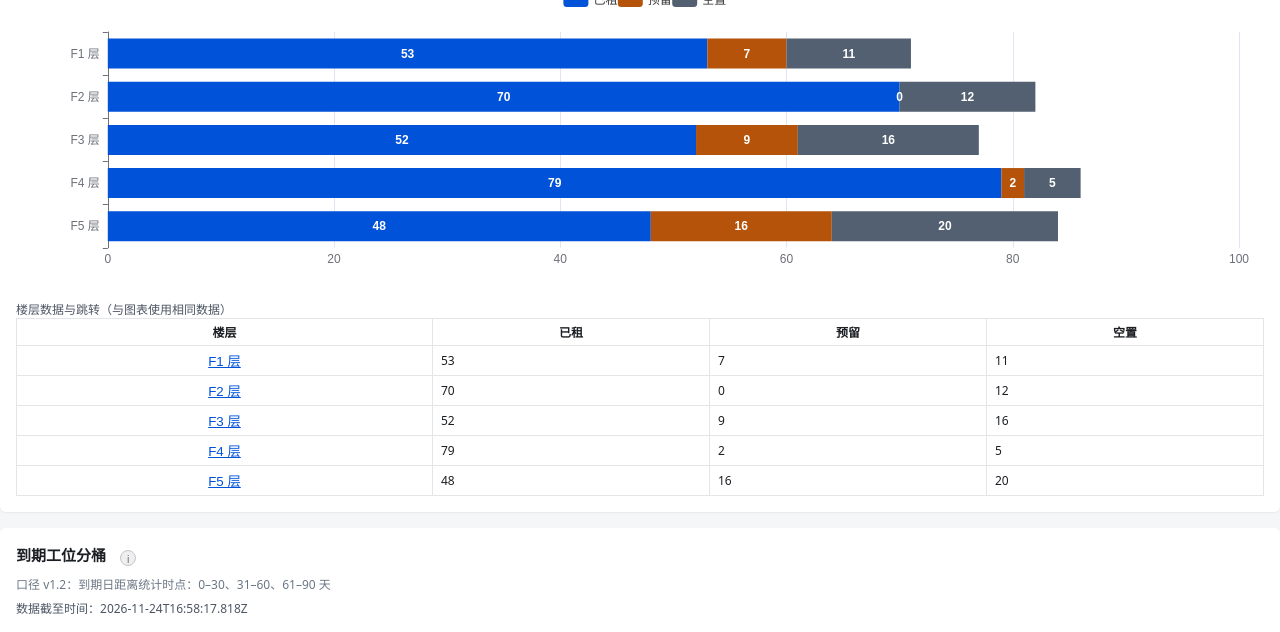
Scenario: occupancy › floor action navigates to stub with floorId
(page scrolled)
Click the button "F1 层": (224, 360) 202,350 -> 247,371
(page scrolled)
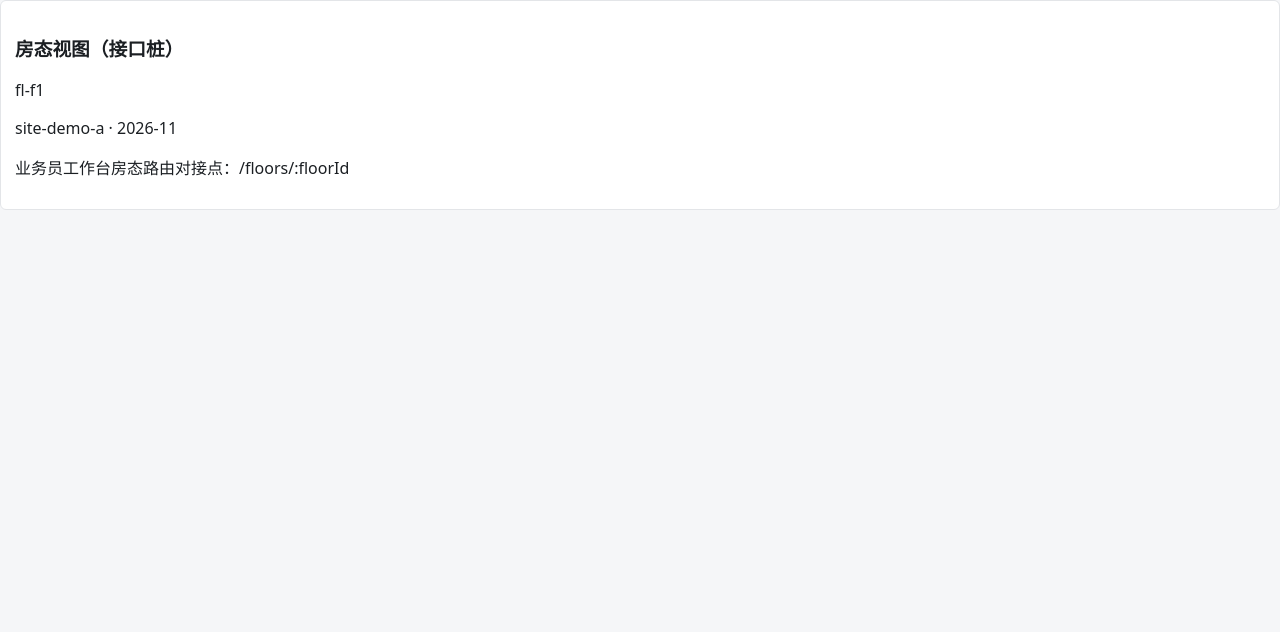
Expected: the text with test id "floor-id" reads "fl-f1", 15,79 -> 44,101
